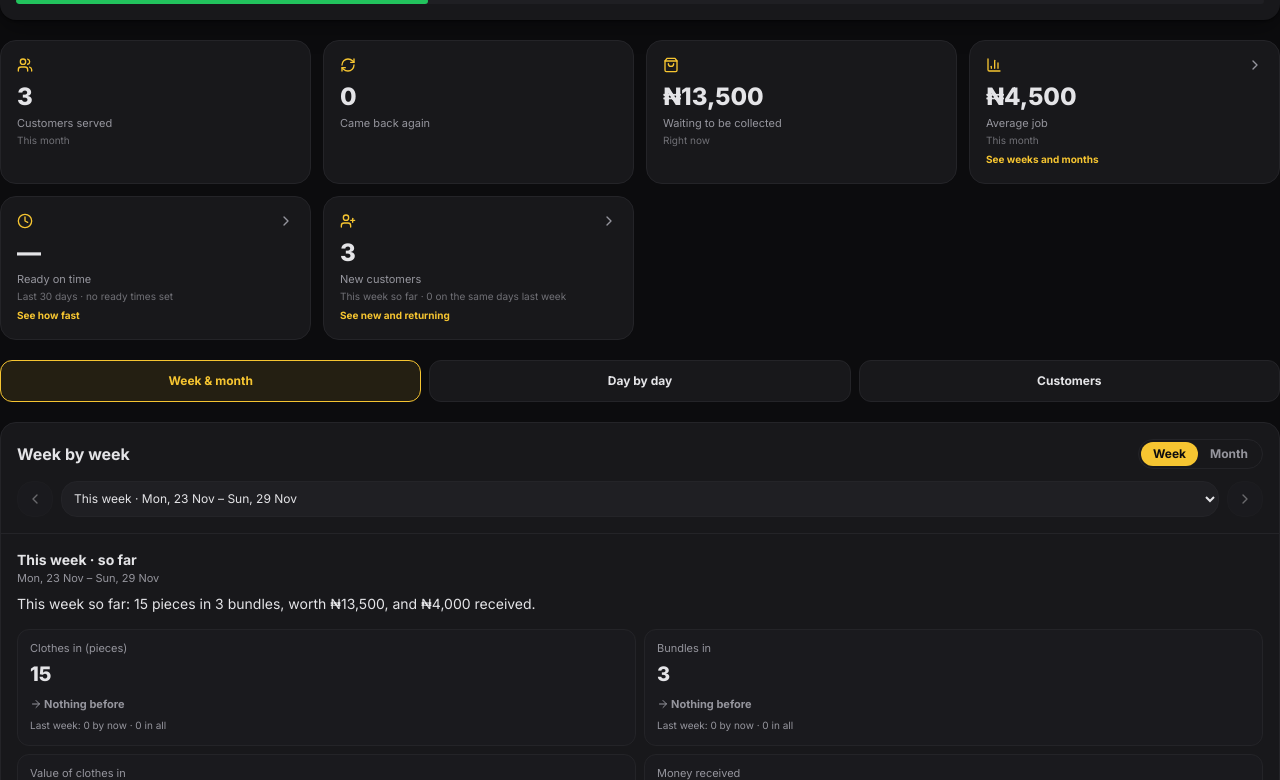
Test: a laundry's Analysis page › opens on its weeks, and lists the days once a tap away
(page scrolled)
Check: the heading "Week by week" is shown, box top-left (17, 442), bottom-right (130, 466)
Click the button "Day by day". click: (640, 380)
box: top-left (429, 360), bottom-right (851, 402)
(page scrolled)
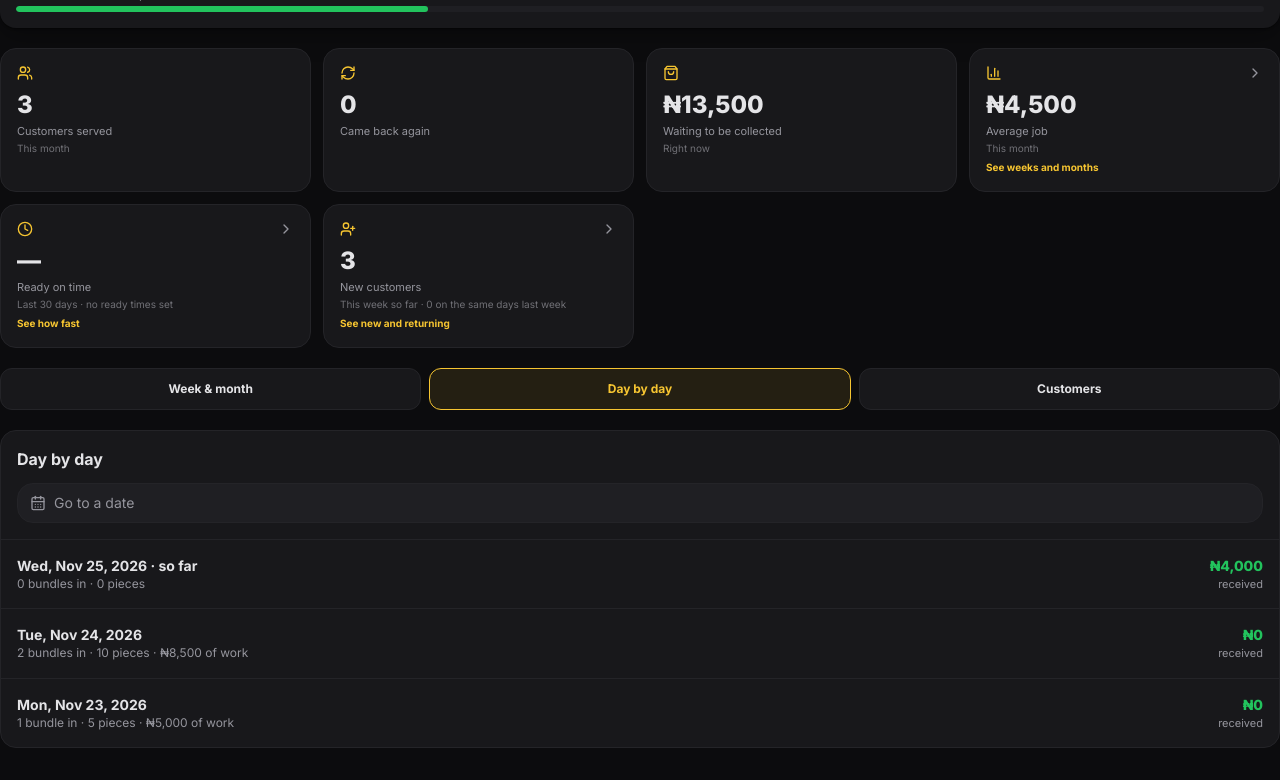
Check: the heading "Day by day" is shown, box top-left (17, 448), bottom-right (103, 468)
